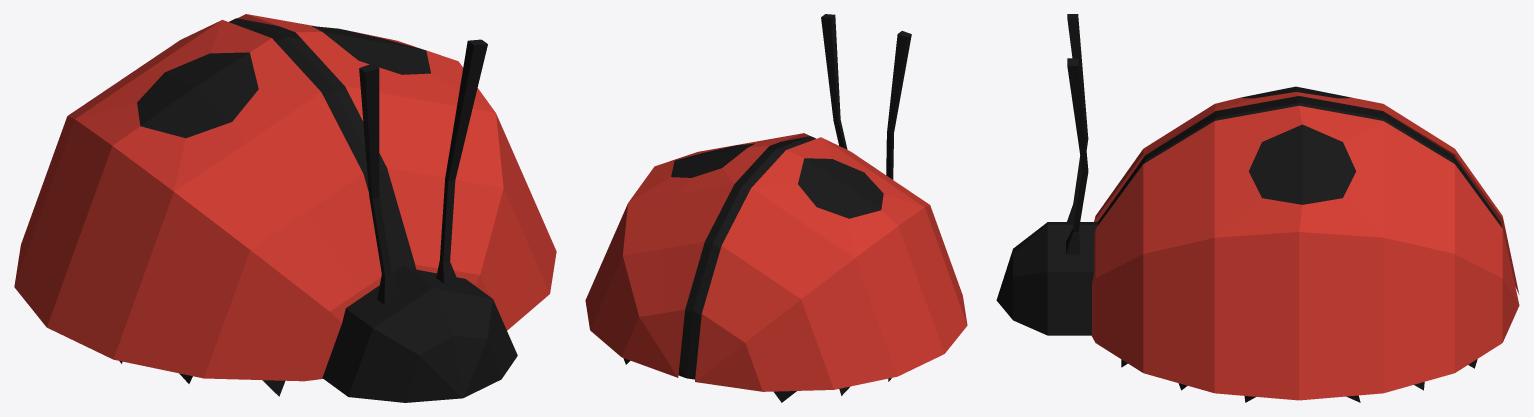
Rendered from Ladybug_01.fbx.
3 renders of one model, left to right at view 1: azimuth 30°, elevation 25°; view 2: azimuth 150°, elevation 25°; view 3: azimuth 270°, elevation 25°, orthographic. The views are drawn at different scales.
Visible parts, largest first — view 1: Ladybug_01; view 2: Ladybug_01; view 3: Ladybug_01.
Part boxes in pixels (x1,y1,x2,y2): Ladybug_01: (14,14,556,402); Ladybug_01: (585,14,967,402); Ladybug_01: (996,14,1519,402).
Size of the model in its own units: 3.87 by 2.61 by 4.31.
